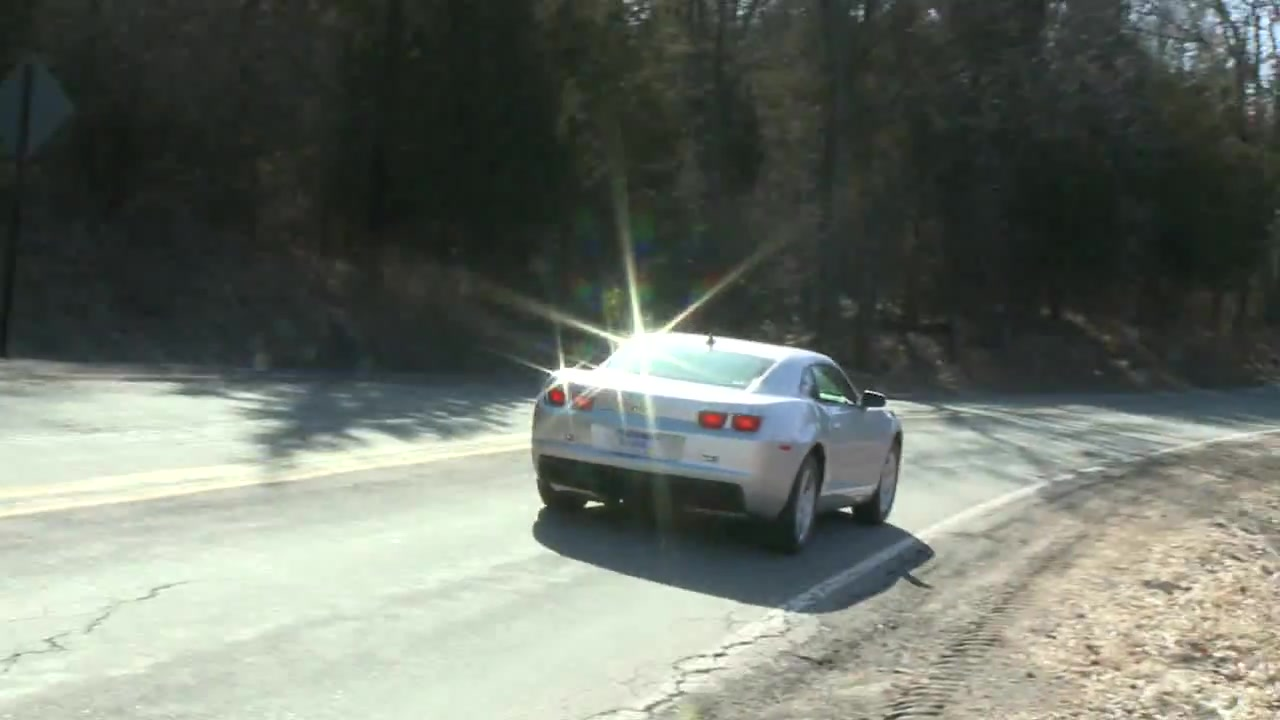car: (530, 328, 906, 549)
